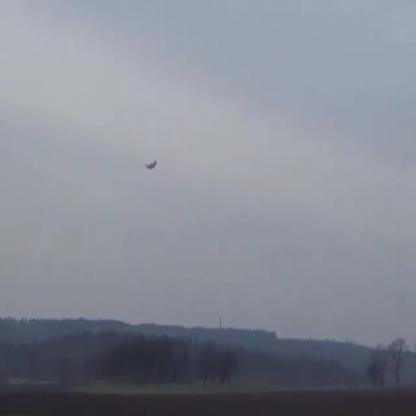CIV_Plane: (144, 160, 156, 170)
